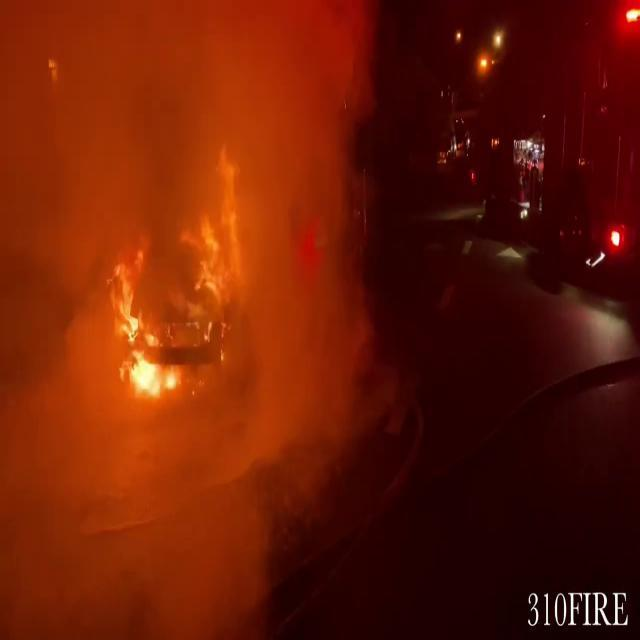Fire: (1, 0, 397, 604), (102, 260, 178, 392)
